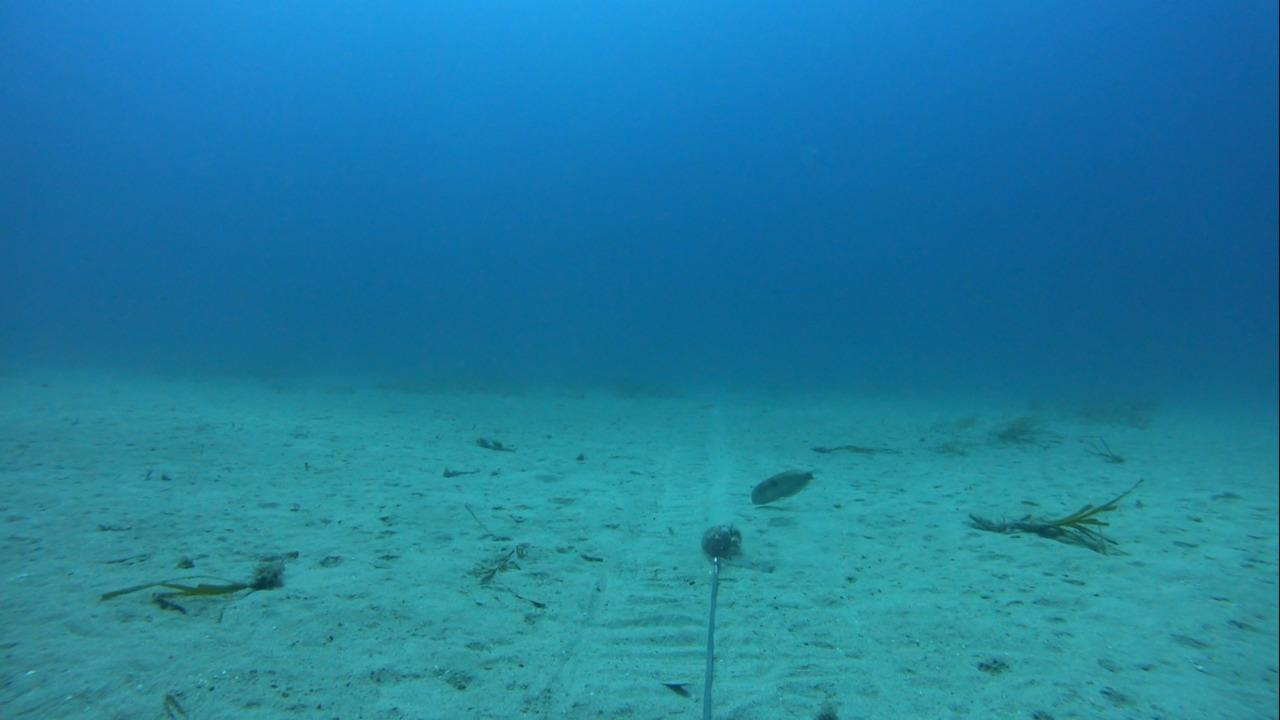raor: (745, 464, 820, 507)
